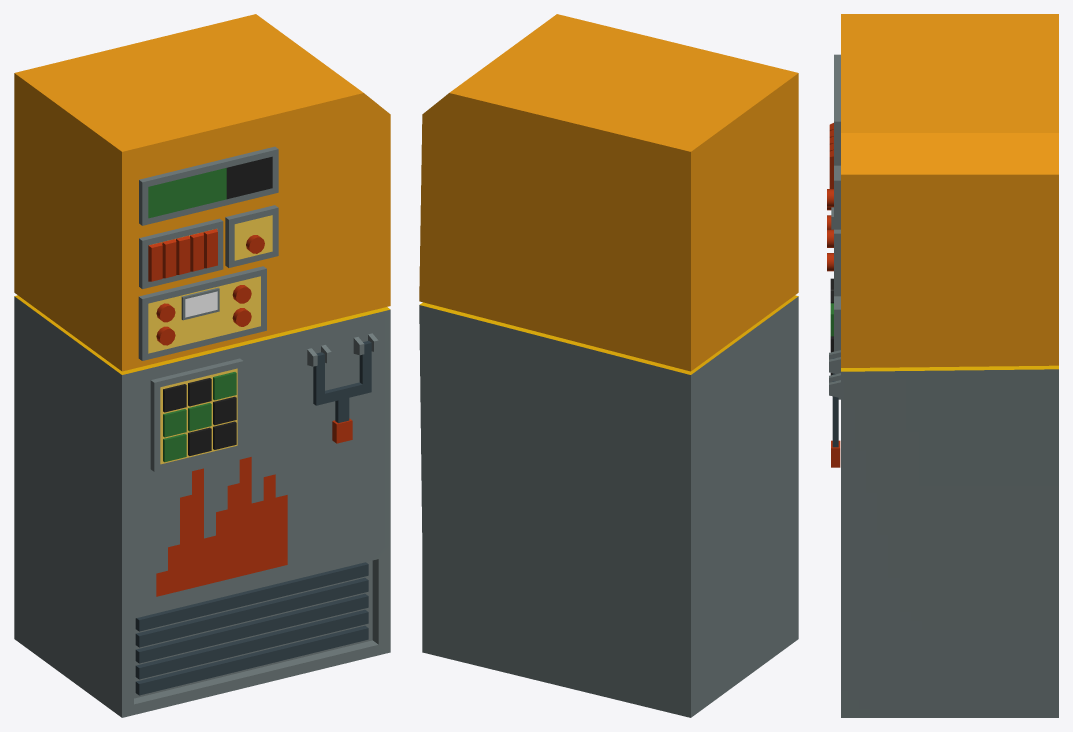
Rendered from Power_Station_03_LV2.fbx.
The picture shows the model from 3 angles, left to right: view 1: azimuth 30°, elevation 25°; view 2: azimuth 150°, elevation 25°; view 3: azimuth 270°, elevation 25°; orthographic projection.
Visible parts, largest first — view 1: Power_Station_03_LV2; view 2: Power_Station_03_LV2; view 3: Power_Station_03_LV2.
Boxes of the visible parts, left/top/right/bottom form: Power_Station_03_LV2: left=14, top=14, right=390, bottom=717; Power_Station_03_LV2: left=419, top=14, right=798, bottom=717; Power_Station_03_LV2: left=827, top=14, right=1058, bottom=717.
Bounding box in the file's own units: 184 × 366 × 135.
